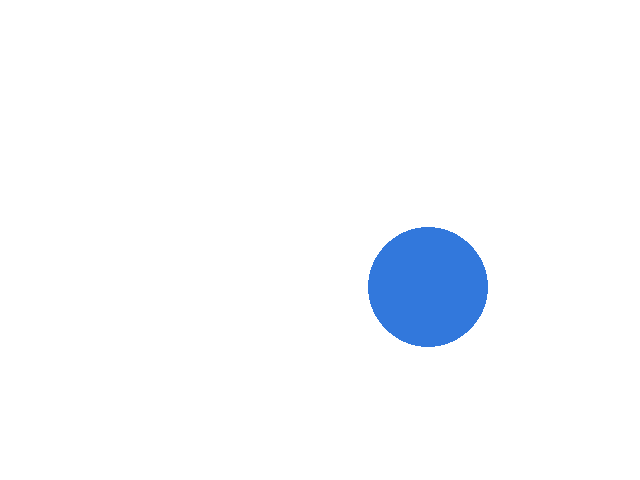fsoc_target: (368, 227, 488, 347)
